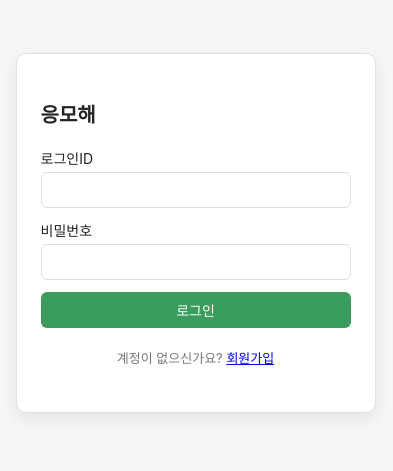
Test: Login › 400 응답이면 해당 에러 메시지가 alert로 노출된다
Type "gdhong" into the field labelled "로그인ID". click: (196, 190)
box: [40,172,350,208]
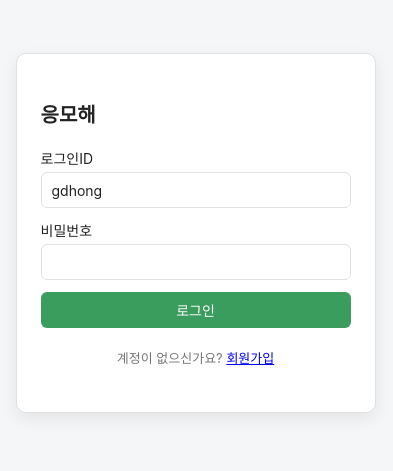
Type "pw1234" into the password field labelled "비밀번호". click: (196, 262)
box: [40,244,350,280]
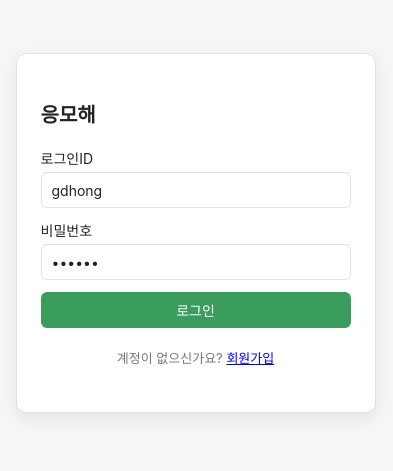
Click the button "로그인". click: (196, 310)
box: [40,292,350,328]
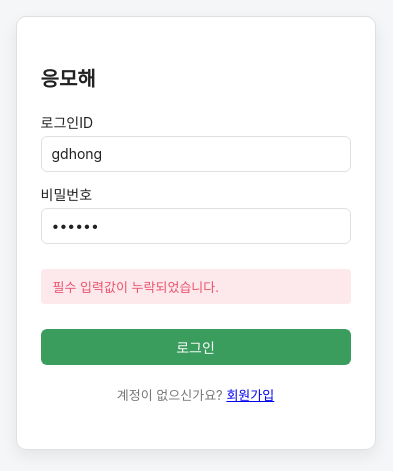
Expected: the message reads "필수 입력값이 누락되었습니다.", [52,279,219,295]
